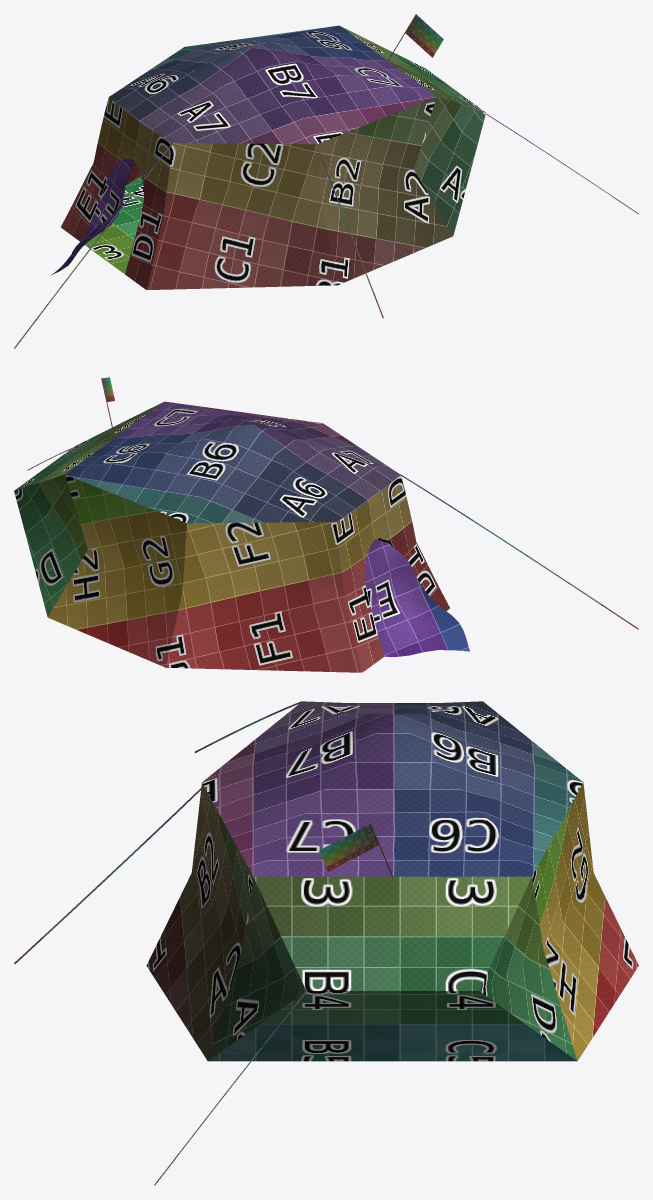
File: tent2_1953.glb
3 renders of one model, top to bottom at view 1: azimuth 30°, elevation 25°; view 2: azimuth 150°, elevation 25°; view 3: azimuth 270°, elevation 25°, orthographic. The views are drawn at different scales.
Parts seen in each view (by area): view 1: BASE; view 2: BASE; view 3: BASE.
Part boxes in pixels (left/top/right/bottom): BASE: left=14, top=14, right=638, bottom=348; BASE: left=14, top=377, right=638, bottom=672; BASE: left=14, top=701, right=638, bottom=1185.
Bounding box in the file's own units: 11.87 × 3.36 × 7.33.
1 material, 1 textured.
